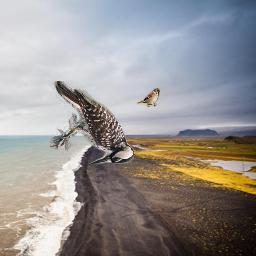Sparrow: (138, 89, 161, 108)
Woodpecker: (50, 82, 134, 165)
